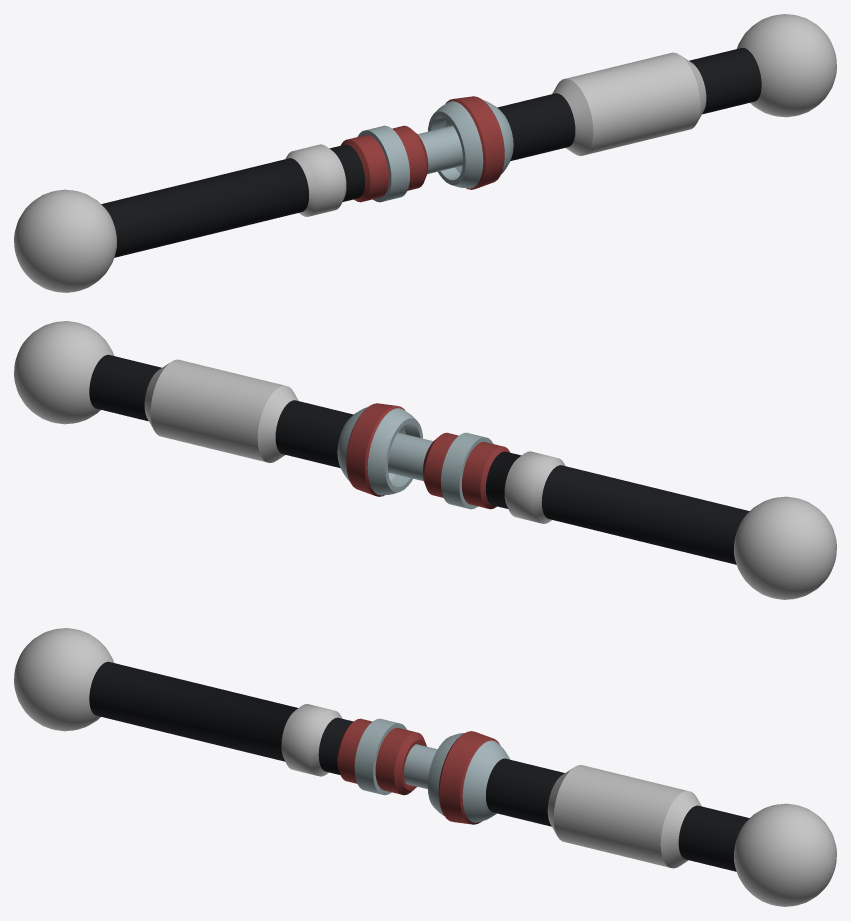
3 views of the same model, one above another, from view 1: azimuth 30°, elevation 25°; view 2: azimuth 150°, elevation 25°; view 3: azimuth 330°, elevation 25° (orthographic).
Visible parts, largest first — view 1: AT; view 2: AT; view 3: AT.
Part boxes in pixels (box(x1,y1,x2,y2)): AT: box(14, 14, 836, 292); AT: box(14, 321, 836, 599); AT: box(14, 628, 836, 906).
Size of the model in its own units: 1198 by 132 by 132.
